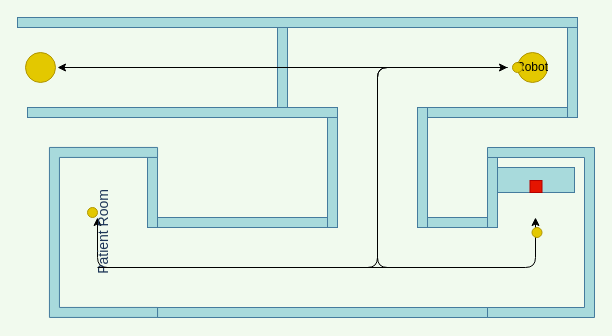
Image size: 612x336. Some labels were removed from this diagram. Here are the shapes that lost their labels. From the top down, the centre of each, then its label:
(40,67): Robot2
(540,232): Medicine Room
